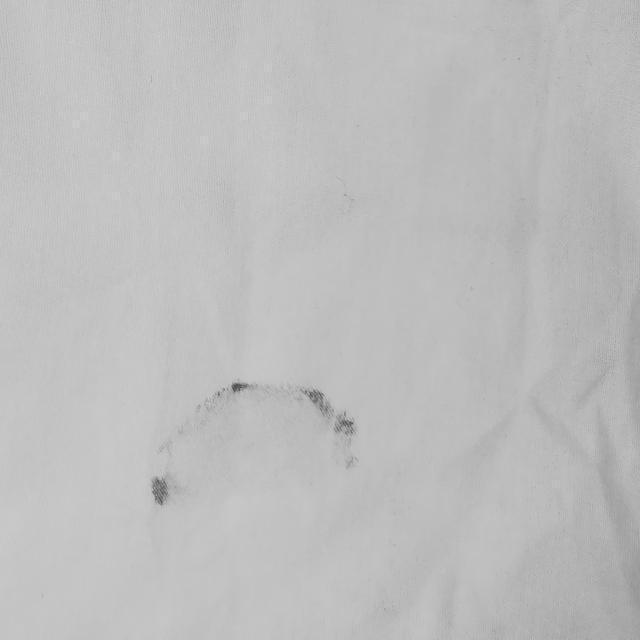Thread_other: (121, 361, 377, 529)
